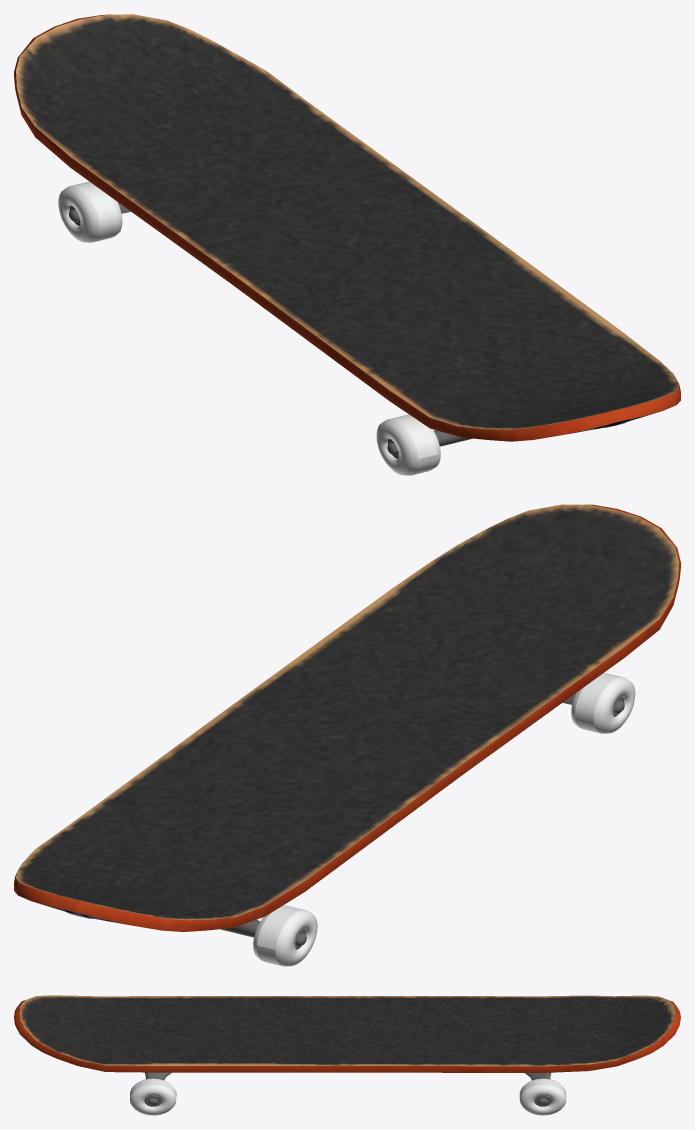
File: board-lod0.glb
The picture shows the model from 3 angles, top to bottom: view 1: azimuth 30°, elevation 25°; view 2: azimuth 150°, elevation 25°; view 3: azimuth 270°, elevation 25°; orthographic projection. The views are drawn at different scales.
Parts seen in each view (by area): view 1: Skateboard.001; view 2: Skateboard.001; view 3: Skateboard.001.
Part boxes in pixels (bbox=[...]): Skateboard.001: bbox=[14, 14, 680, 475]; Skateboard.001: bbox=[14, 504, 680, 966]; Skateboard.001: bbox=[14, 995, 680, 1115].
Size of the model in its own units: 0.5773 by 0.2682 by 2.3.
Materials: 3 (3 with a texture image).
